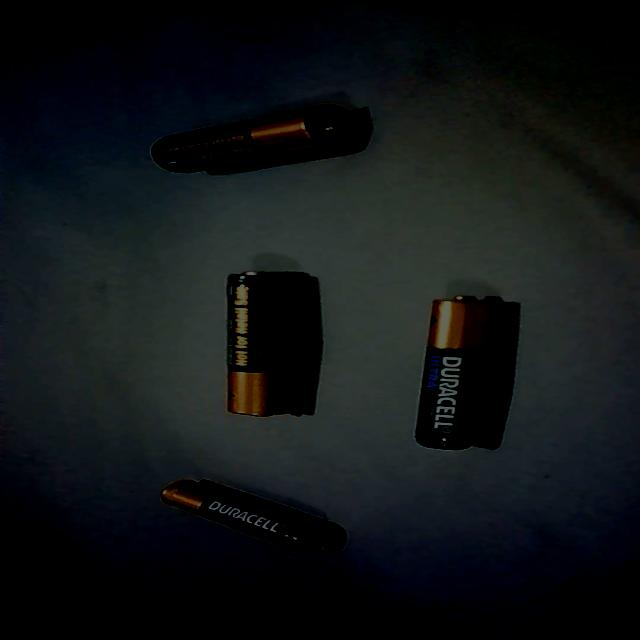AA: (147, 98, 371, 178), (216, 268, 312, 418)
AAA: (408, 290, 510, 454), (156, 474, 338, 558)
